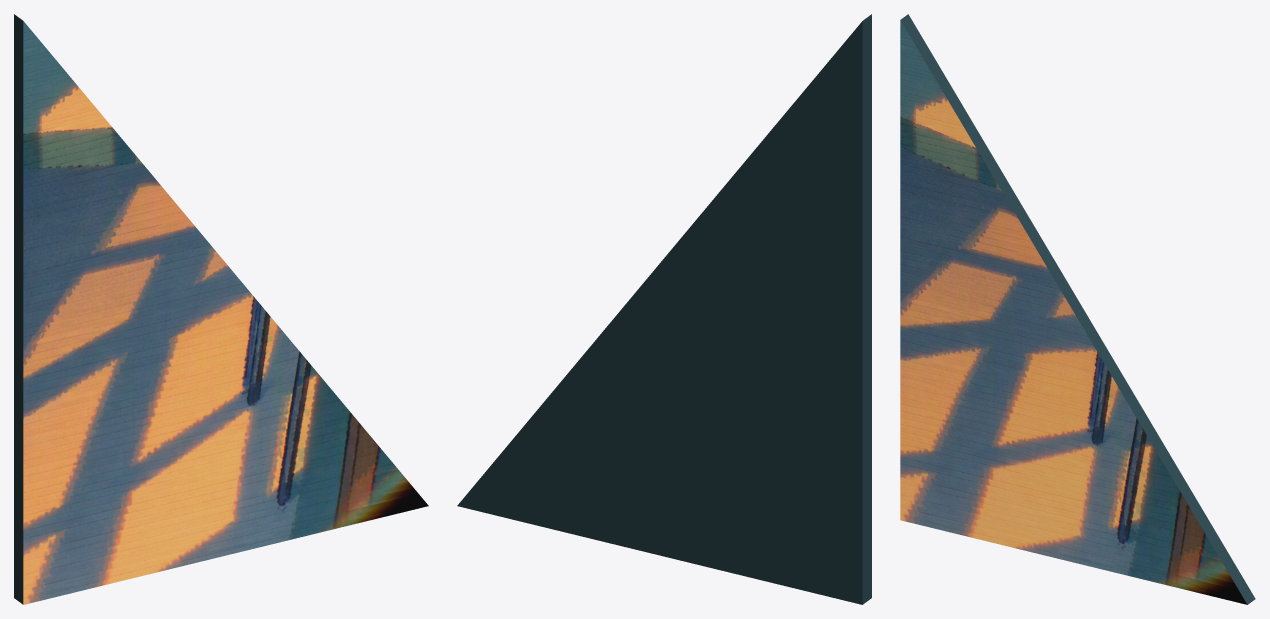
3 views of the same model, side by side, from view 1: azimuth 30°, elevation 25°; view 2: azimuth 150°, elevation 25°; view 3: azimuth 330°, elevation 25° (orthographic). The views are drawn at different scales.
Parts seen in each view (by area): view 1: Piece_05; view 2: Piece_05; view 3: Piece_05.
Part boxes in pixels (bbox=[...]): Piece_05: bbox=[14, 14, 428, 604]; Piece_05: bbox=[457, 14, 871, 604]; Piece_05: bbox=[900, 14, 1255, 604].
Size of the model in its own units: 0.618 by 0.8507 by 0.025.
2 materials, 1 textured.
